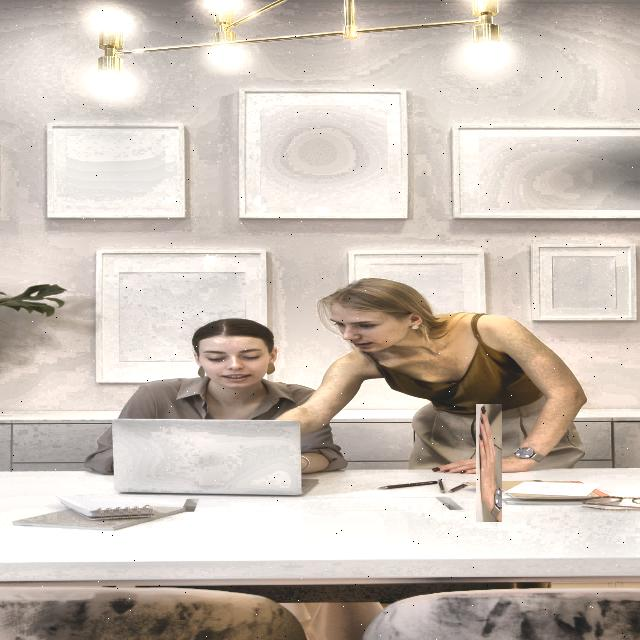not-gloved: (452, 428, 526, 500)
